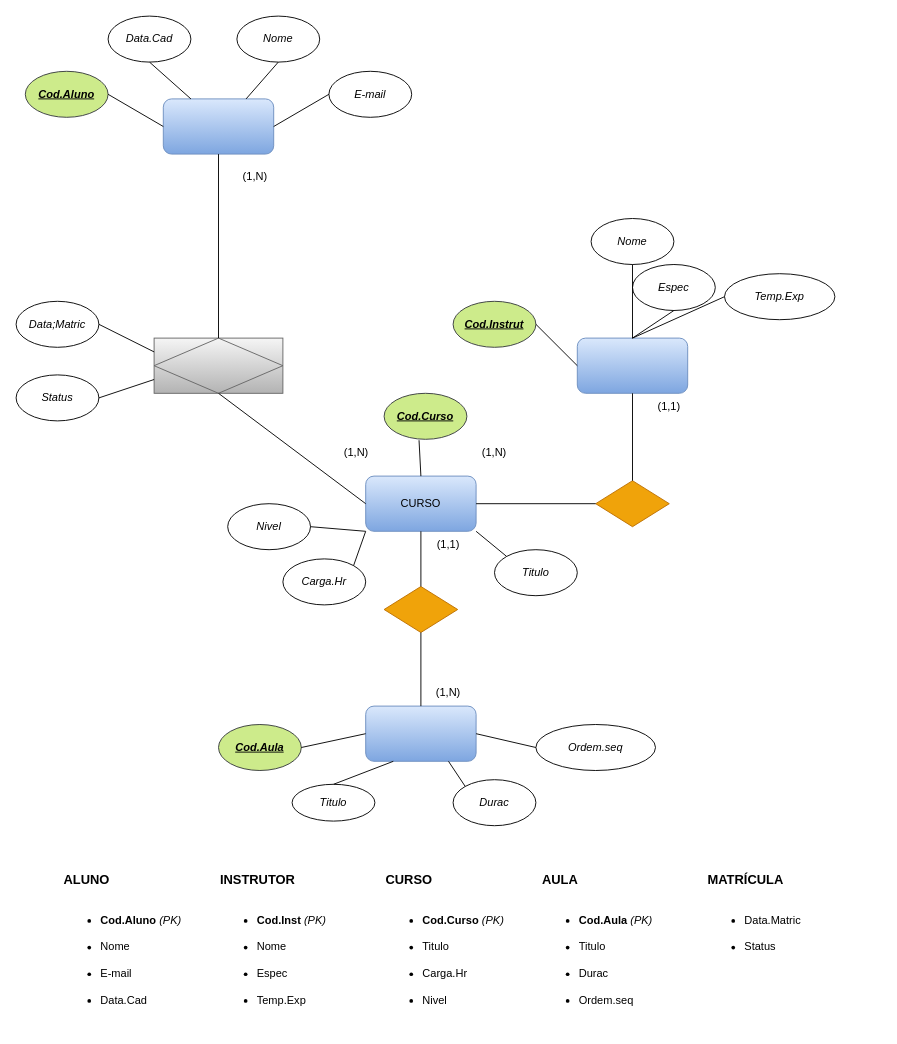
Image size: 897x1044. Some labels were removed from this diagram. The box of each missing label's shape, as (x1, y1, x2, y2) in pixels:
ALUNO: (162, 98, 274, 154)
AULA: (365, 705, 476, 761)
INSTRUTOR: (576, 337, 688, 393)
Matricula: (153, 337, 283, 393)
ministrar: (595, 480, 669, 527)
possuir: (383, 586, 458, 632)
